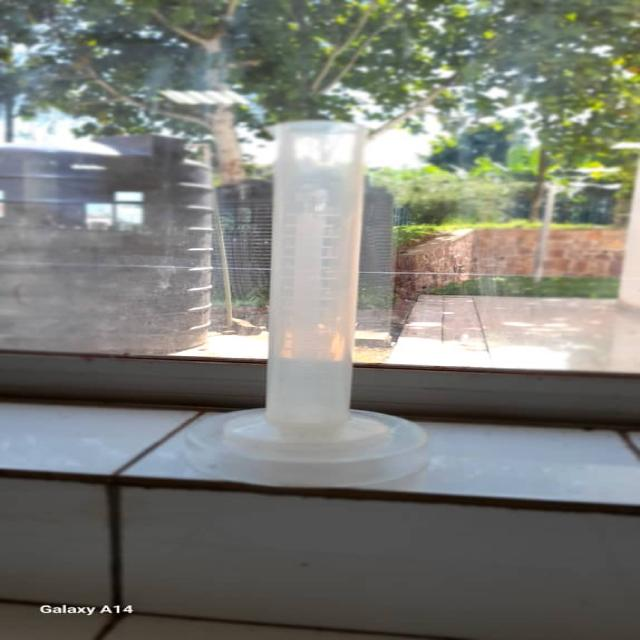Measuring Cylinder: (234, 117, 408, 462)
